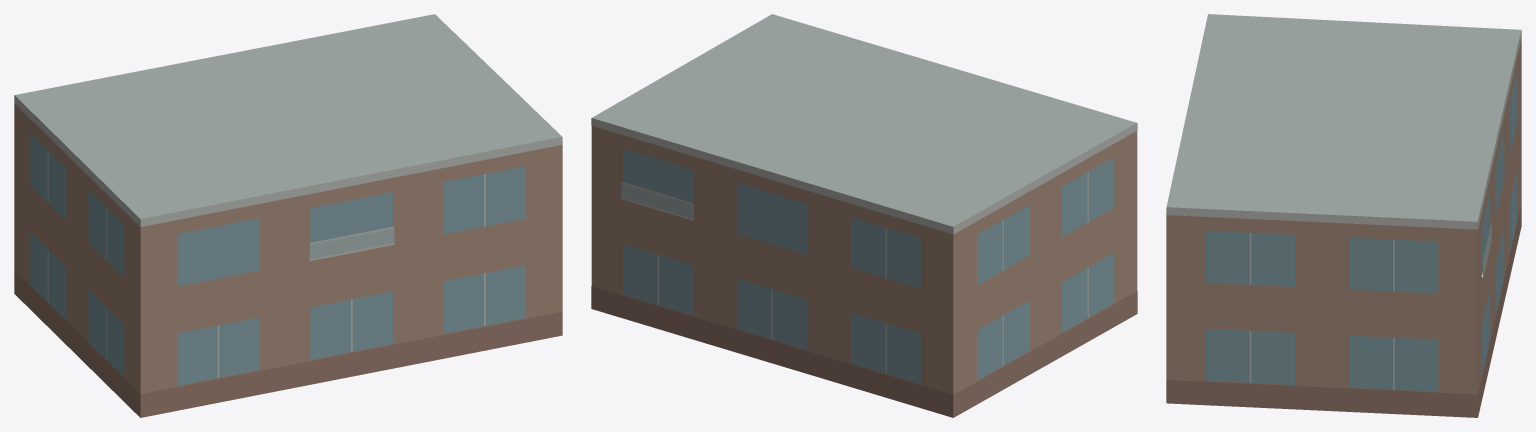
Rendered from survey-upis-32991065.glb.
The picture shows the model from 3 angles, left to right: view 1: azimuth 30°, elevation 25°; view 2: azimuth 150°, elevation 25°; view 3: azimuth 270°, elevation 25°; orthographic projection. The views are drawn at different scales.
Parts seen in each view (by area): view 1: survey-upis-32991065.tmp; view 2: survey-upis-32991065.tmp; view 3: survey-upis-32991065.tmp.
Part boxes in pixels (x1,y1,x2,y2): survey-upis-32991065.tmp: (14,14,562,417); survey-upis-32991065.tmp: (591,14,1137,417); survey-upis-32991065.tmp: (1166,14,1521,417).
Bounding box in the file's own units: 13.87 × 6.1 × 10.02.
